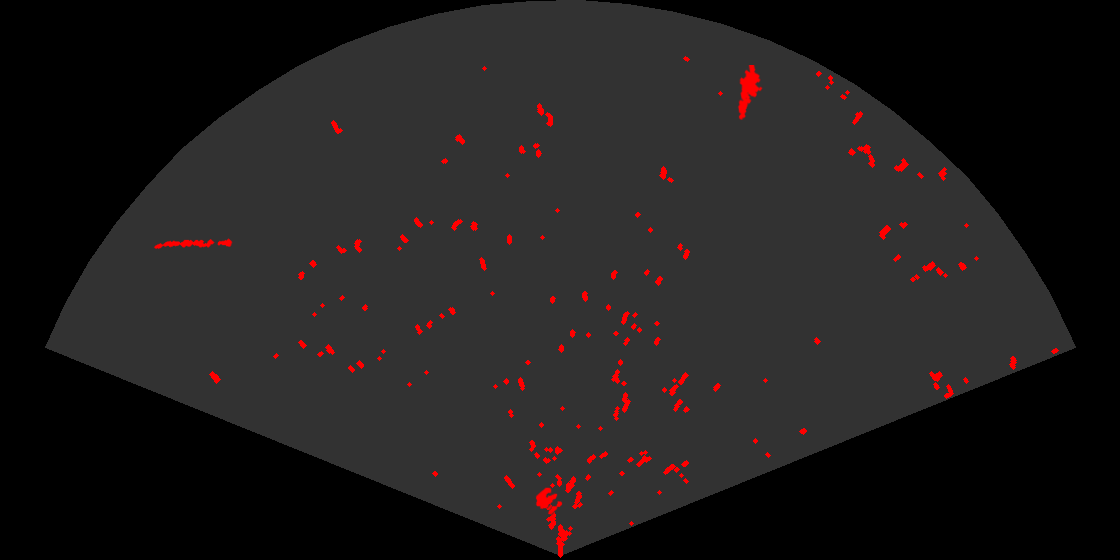ball: (534, 486, 564, 516)
chain: (153, 237, 233, 250)
frogman: (736, 65, 764, 120)
